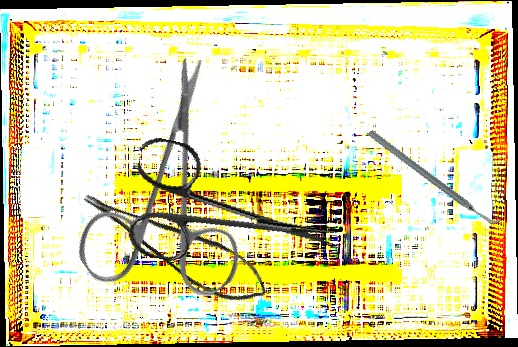Chopper: (365, 96, 504, 258)
Iris Scissors: (20, 51, 315, 346), (119, 134, 347, 294)
Micro Scissor: (78, 161, 278, 323)
